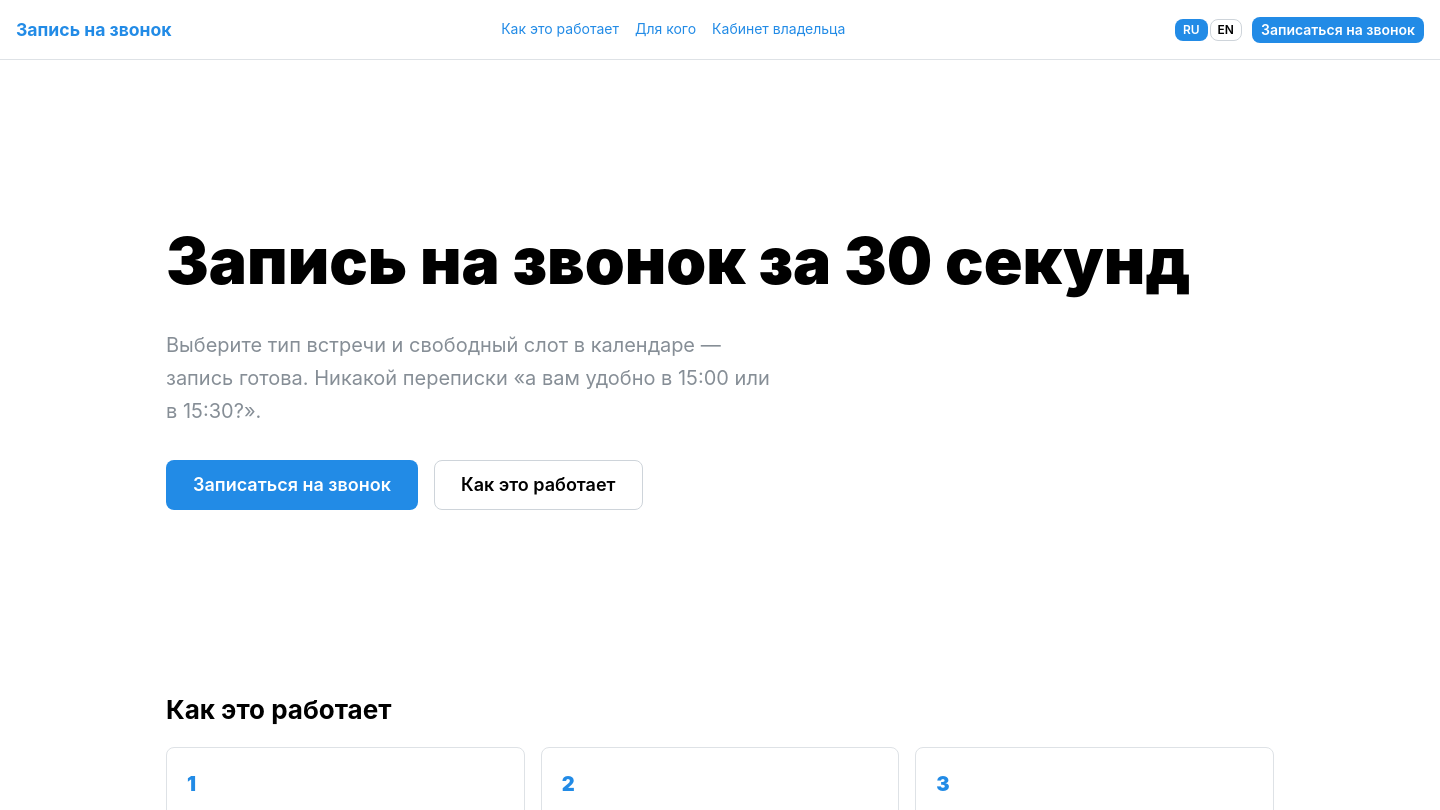
Test: шапка и лендинг ведут гостя к записи › клик по главной кнопке открывает каталог типов встреч
This screenshot has width=1440, height=810.
Click the link "Записаться на звонок" below "Запись на звонок за 30 секунд". click: (292, 485)
box: [166,460,418,510]
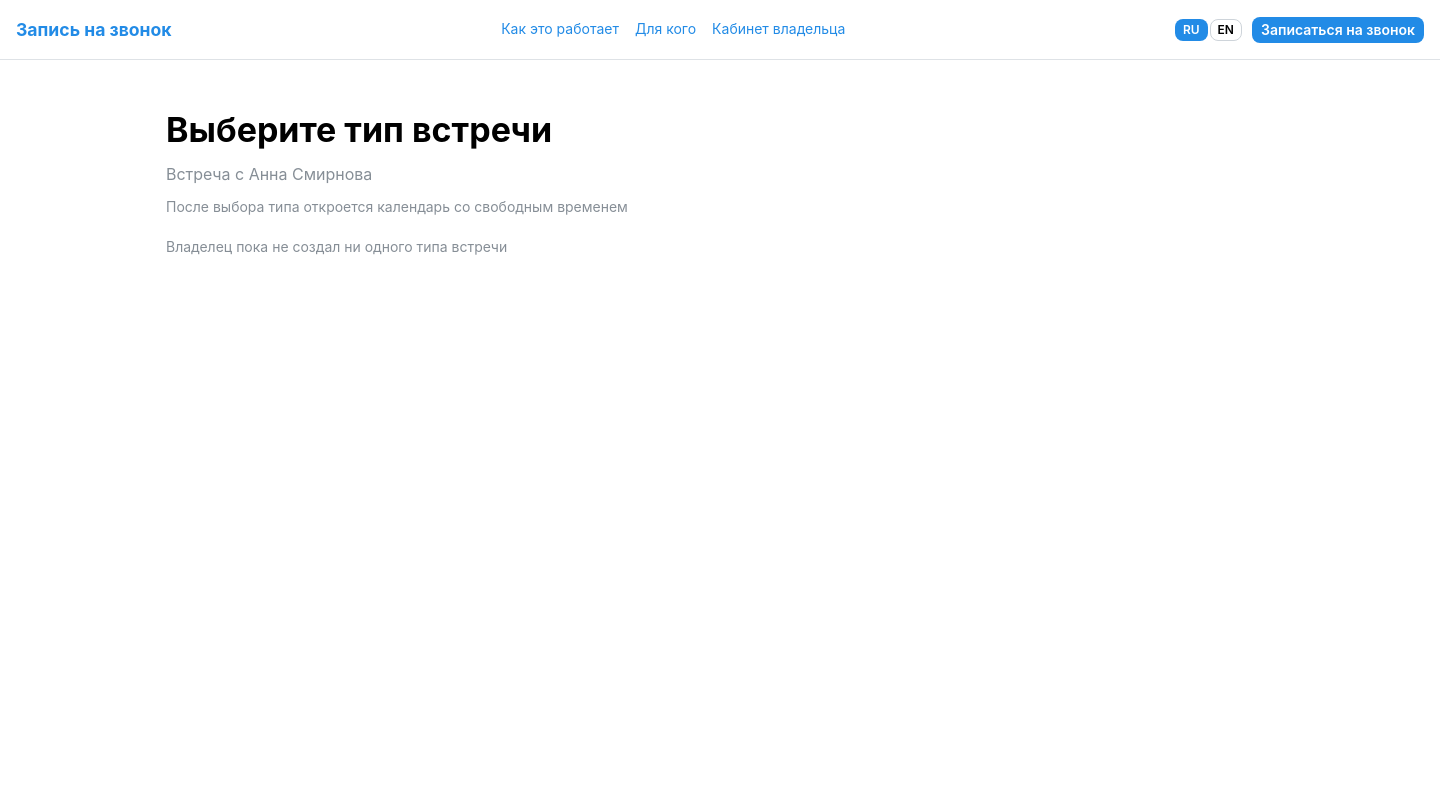
Now the heading reads "Выберите тип встречи", box [166,109,552,150]
